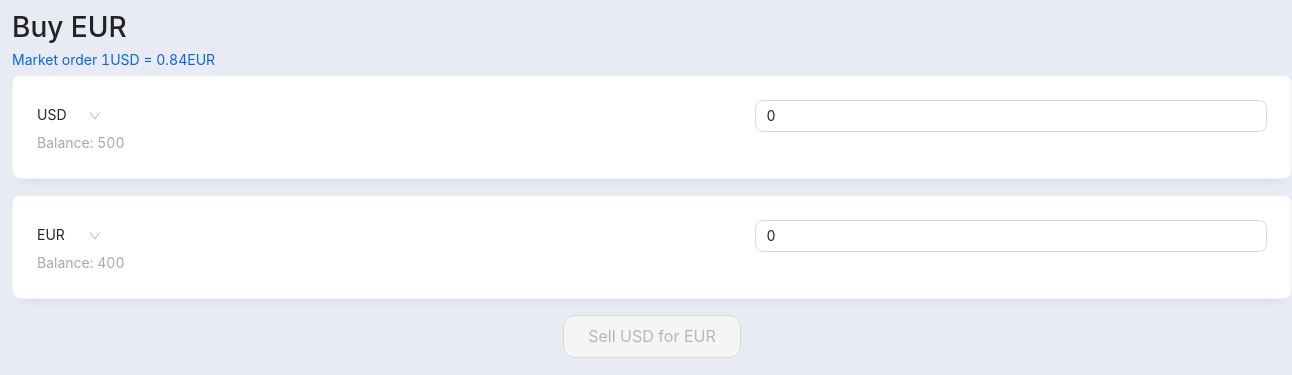
Test case: After data fetching › Input validation › Should reset inputs when base currency is changed
Type "420.699999" into the 1st field with placeholder "0" at (1011, 116), box [754,100,1267,132]
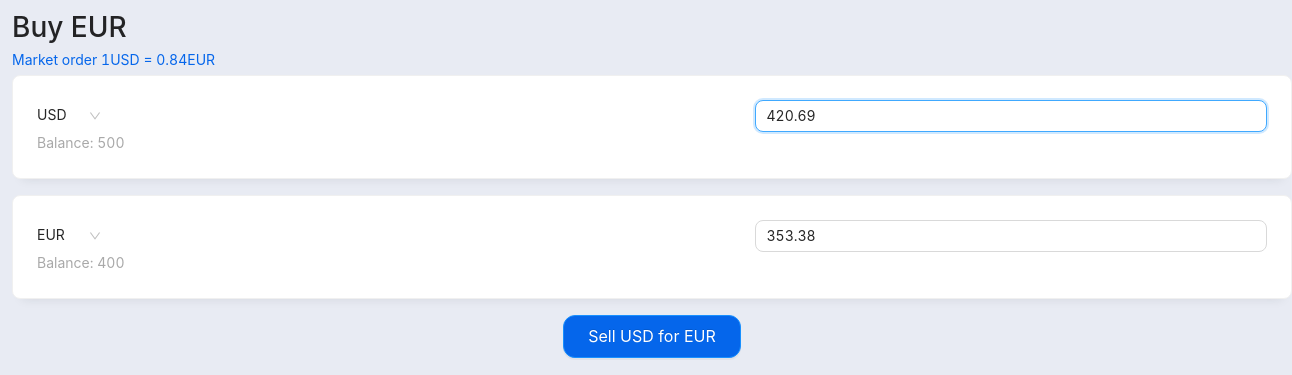
Expected: the 1st field with placeholder "0" holds "420.69", [754,100,1267,132]
Click the text "USD" at (52, 114), box [37,100,112,132]
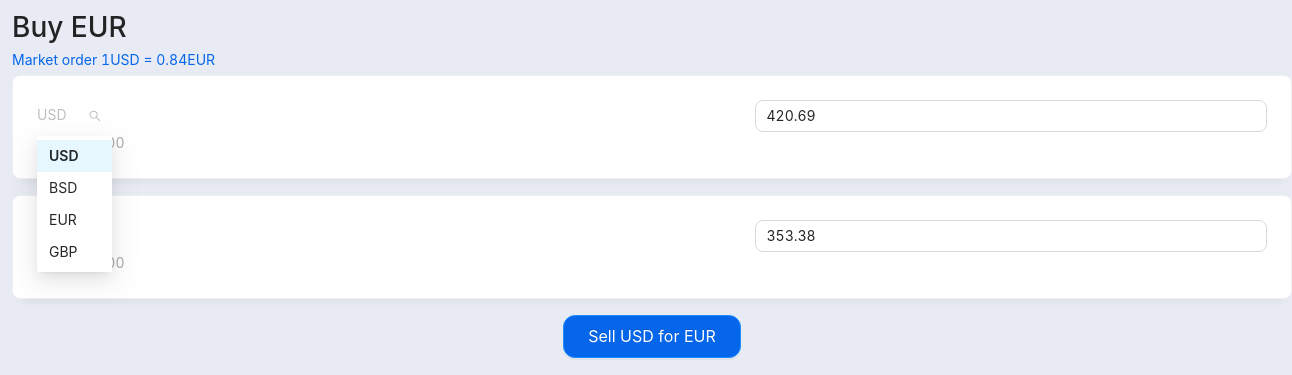
Click the text "GBP" at (63, 252), box [49,243,78,260]
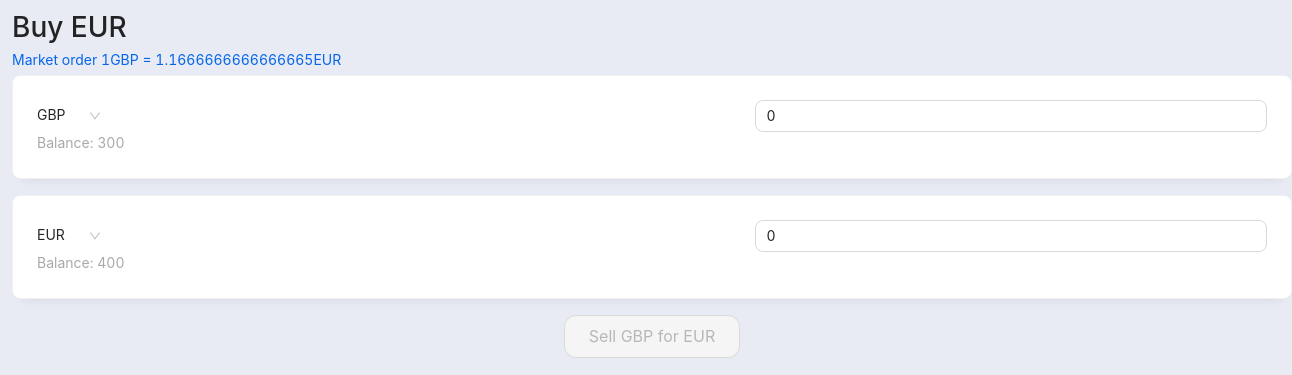
Expected: the 1st field with placeholder "0" holds "0", [754,100,1267,132]
Expected: the 2nd field with placeholder "0" holds "0", [754,220,1267,252]
